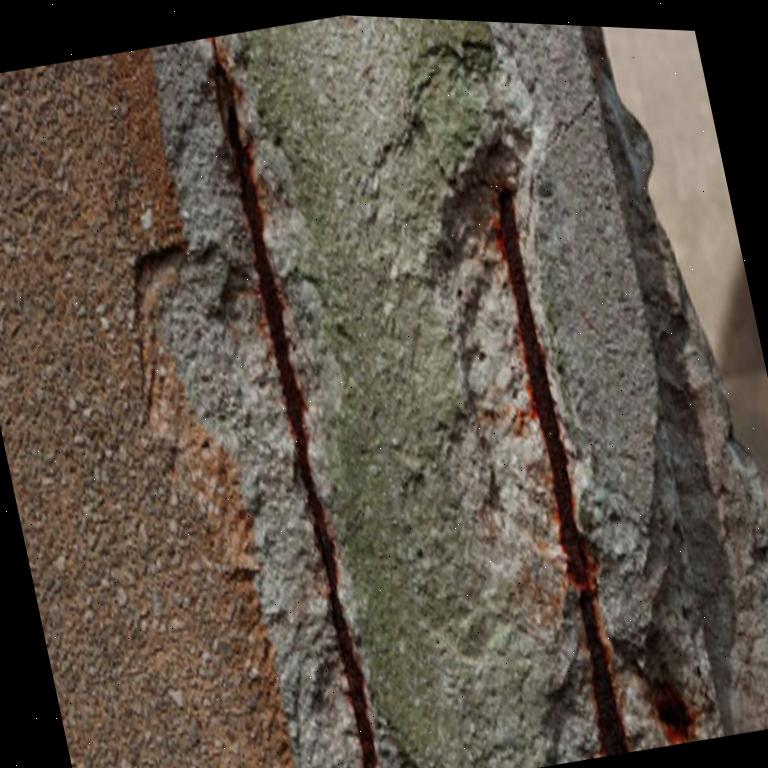exposed_rebar: (211, 37, 378, 768), (497, 188, 629, 756)
spalling: (129, 36, 722, 768)
